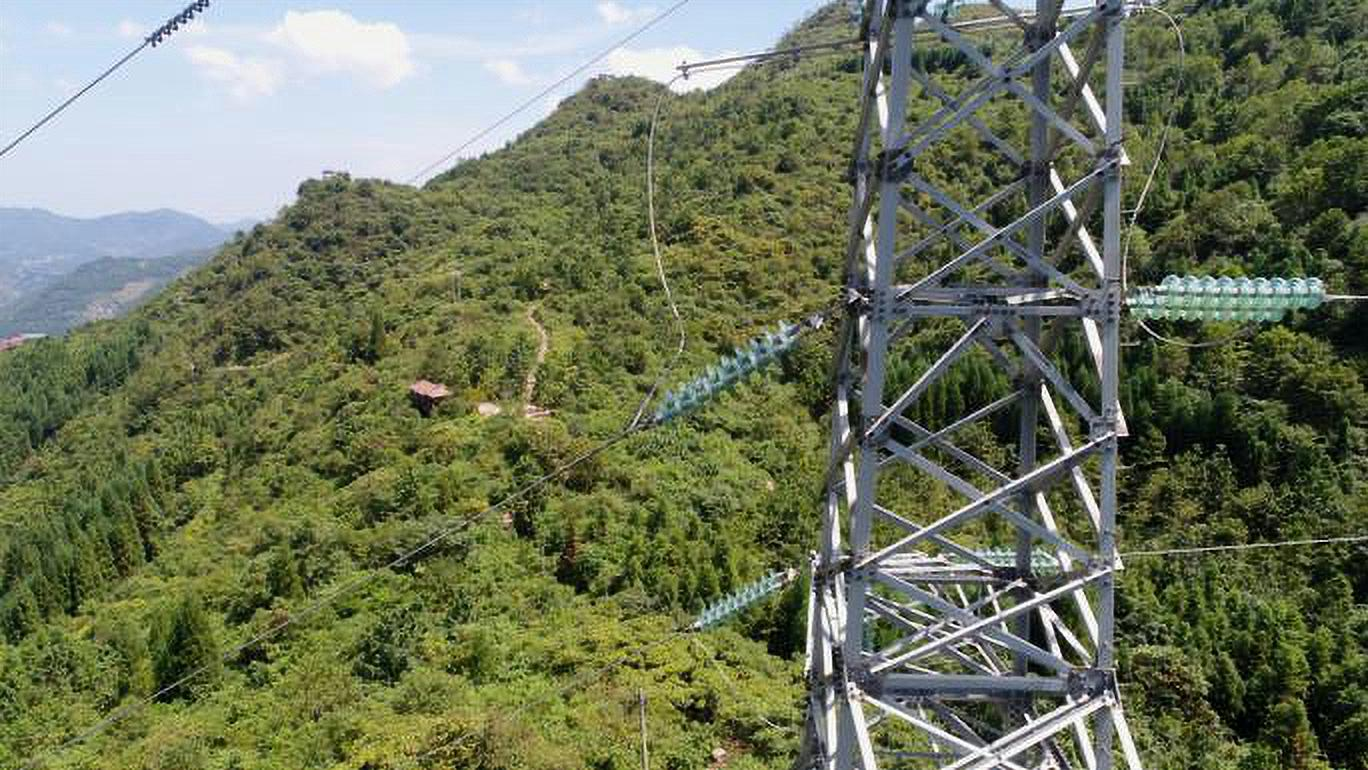insulator: (655, 316, 795, 429), (1128, 271, 1329, 328), (696, 566, 785, 633)
